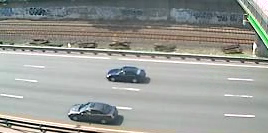car: (66, 100, 120, 124), (105, 63, 149, 85)
